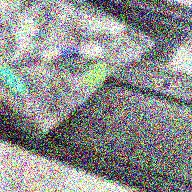러키펜정: (80, 42, 104, 60)
씨엠지세파클러캡슐: (40, 43, 81, 62)
에르도캡슐: (0, 66, 29, 96)
휴티렌정: (84, 63, 109, 87)
